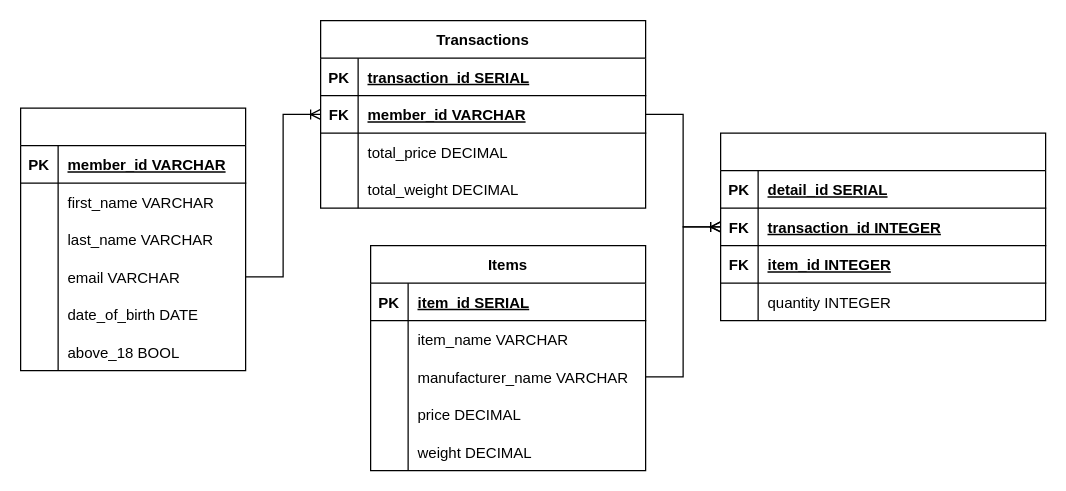
The diagram is 1066 pixels wide and 491 high, and some of its shapes have lost their labels. Each missing label, with the box of its shape:
Members: (19, 107, 246, 371)
Transaction_details: (719, 132, 1046, 321)
